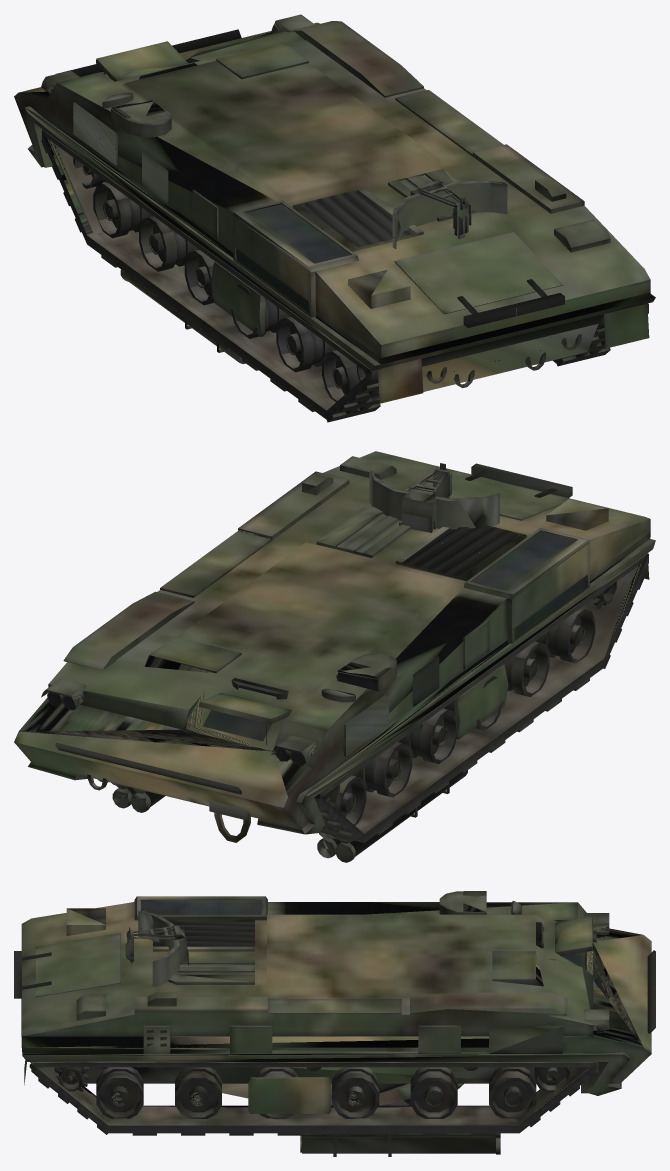
File: tunguska_lo.glb
The picture shows the model from 3 angles, top to bottom: view 1: azimuth 30°, elevation 25°; view 2: azimuth 150°, elevation 25°; view 3: azimuth 270°, elevation 25°; orthographic projection. The views are drawn at different scales.
Parts seen in each view (by area): view 1: body|TG_paint, radar|TG_paint, turret|TG_paint, cradle|TG_paint; view 2: body|TG_paint, radar|TG_paint, cradle|TG_paint, turret|TG_paint; view 3: body|TG_paint, cradle|TG_paint, turret|TG_paint, radar|TG_paint.
Part boxes in pixels (bbox=[...]): body|TG_paint: bbox=[14, 14, 655, 422]; radar|TG_paint: bbox=[392, 180, 507, 248]; turret|TG_paint: bbox=[211, 261, 264, 336]; cradle|TG_paint: bbox=[120, 269, 245, 363]; body|TG_paint: bbox=[14, 451, 655, 842]; radar|TG_paint: bbox=[369, 463, 499, 532]; cradle|TG_paint: bbox=[112, 770, 467, 862]; turret|TG_paint: bbox=[454, 664, 508, 739]; body|TG_paint: bbox=[14, 891, 655, 1135]; cradle|TG_paint: bbox=[300, 1083, 500, 1156]; turret|TG_paint: bbox=[222, 1077, 463, 1113]; radar|TG_paint: bbox=[125, 911, 188, 986].
Size of the model in its own units: 3.43 by 2.47 by 7.92.
4 materials, 4 textured.
